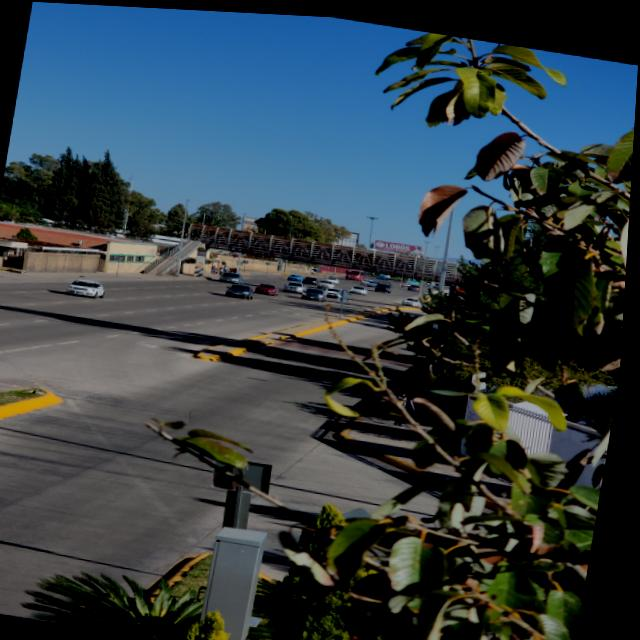Auto: (66, 275, 109, 299), (228, 278, 257, 297), (367, 273, 395, 290), (286, 270, 308, 290), (256, 278, 282, 293), (353, 281, 371, 293)
